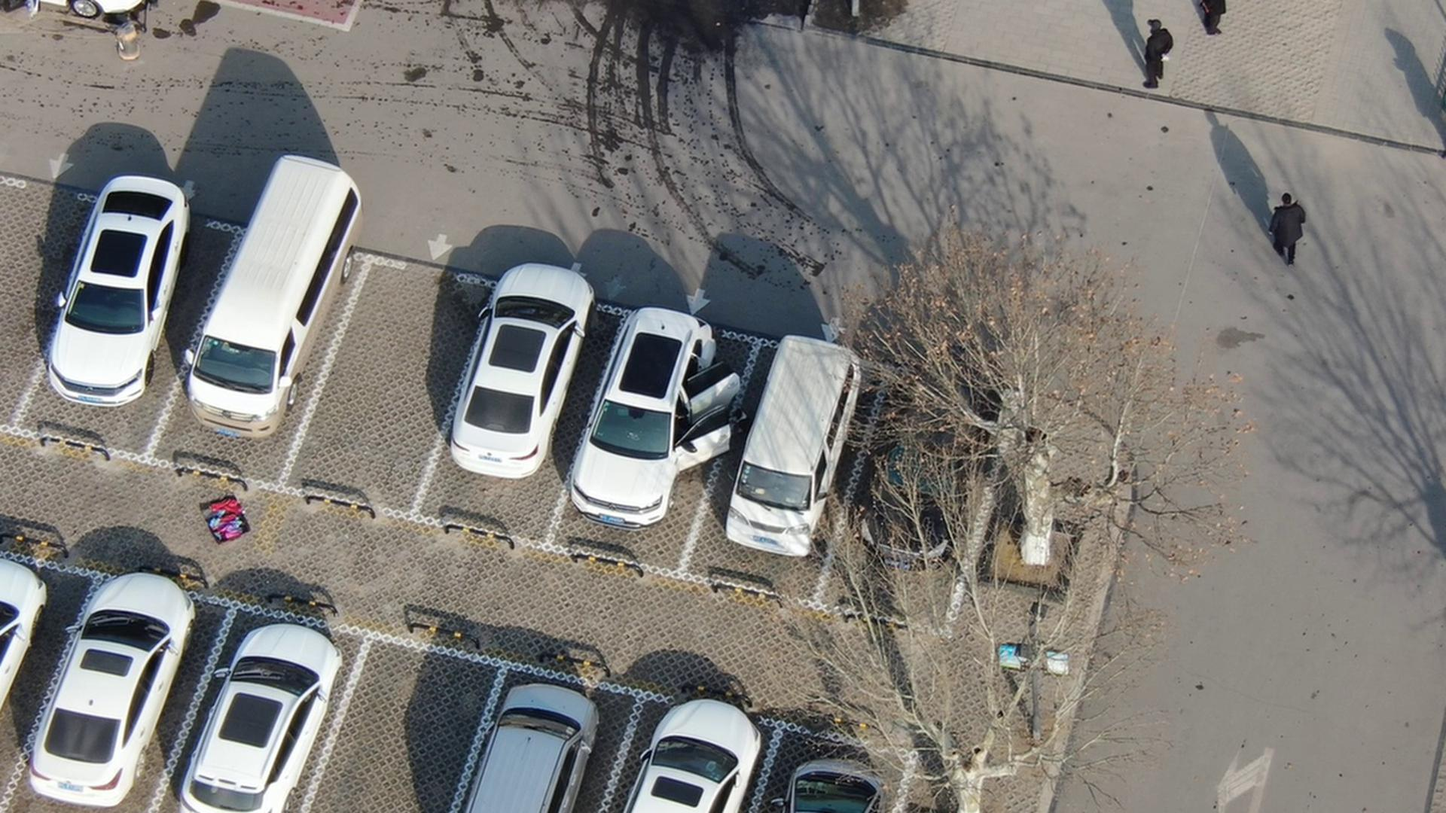human: (1258, 193, 1305, 269), (1133, 13, 1176, 92)
